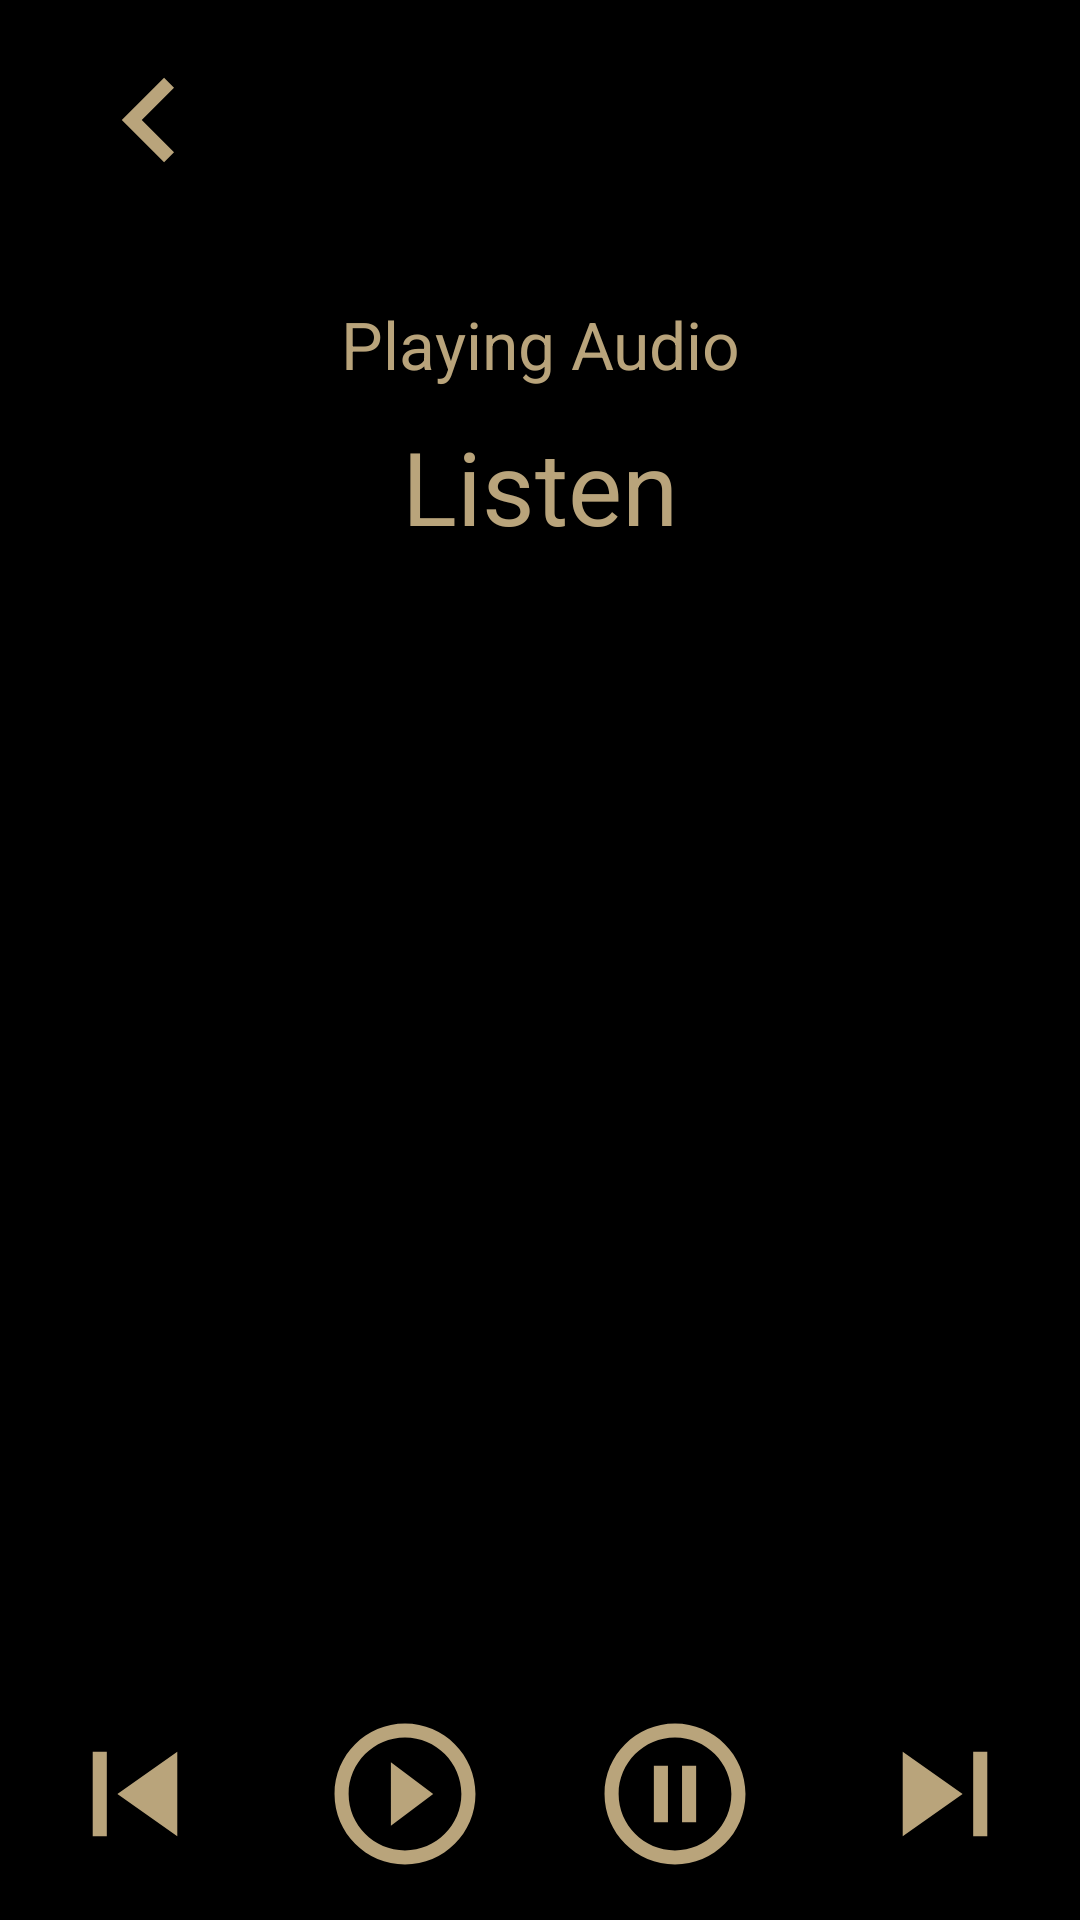

Icons on this 1080px×1920px Android screen, each with the point to tap as (x=x, y=y):
back: (x=148, y=120)
